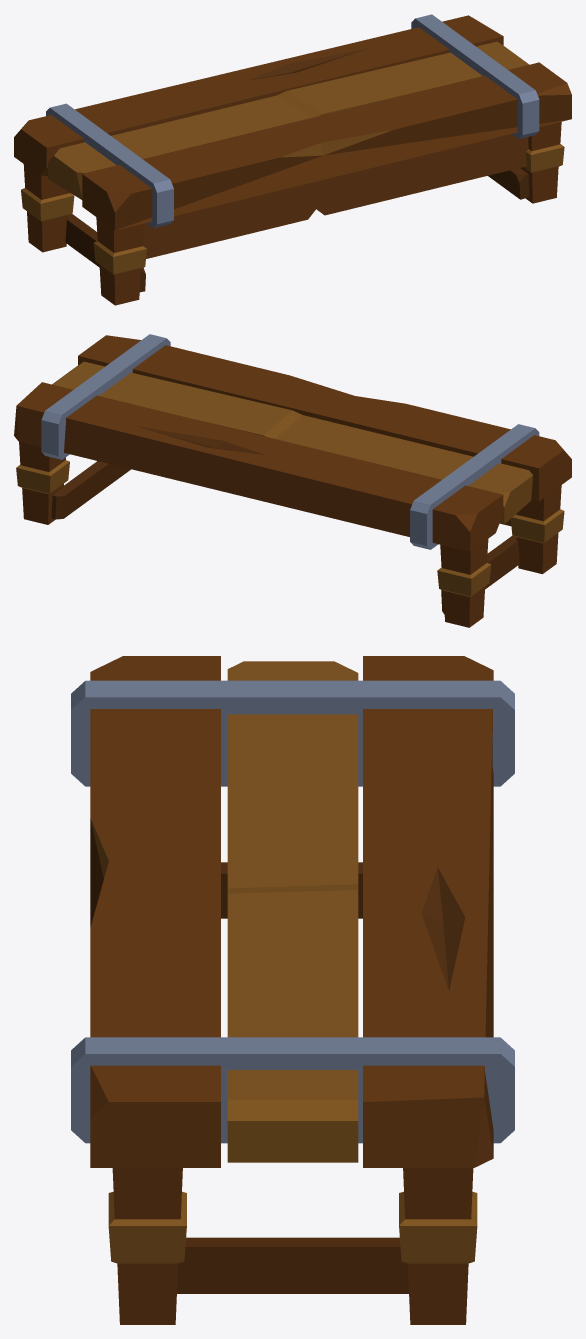
File: SM_FrontDesk 1.fbx
3 views of the same model, one above another, from view 1: azimuth 30°, elevation 25°; view 2: azimuth 150°, elevation 25°; view 3: azimuth 270°, elevation 25° (orthographic). The views are drawn at different scales.
Parts seen in each view (by area): view 1: SM_Desk; view 2: SM_Desk; view 3: SM_Desk.
Part boxes in pixels (box(x1,y1,x2,y2)): SM_Desk: box(14, 14, 571, 305); SM_Desk: box(14, 334, 571, 627); SM_Desk: box(71, 656, 514, 1324).
Size of the model in its own units: 291 by 73.6 by 122.
